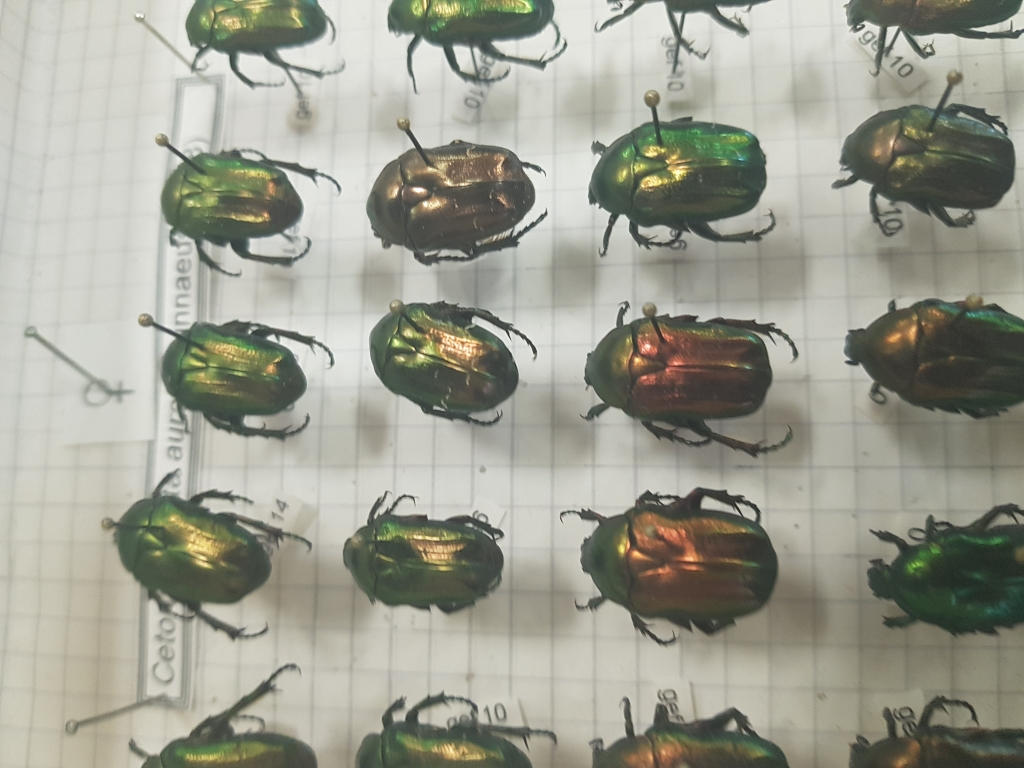Cetonia_aurata: (579, 298, 805, 461), (583, 114, 787, 254), (356, 137, 556, 265), (368, 298, 541, 428)
